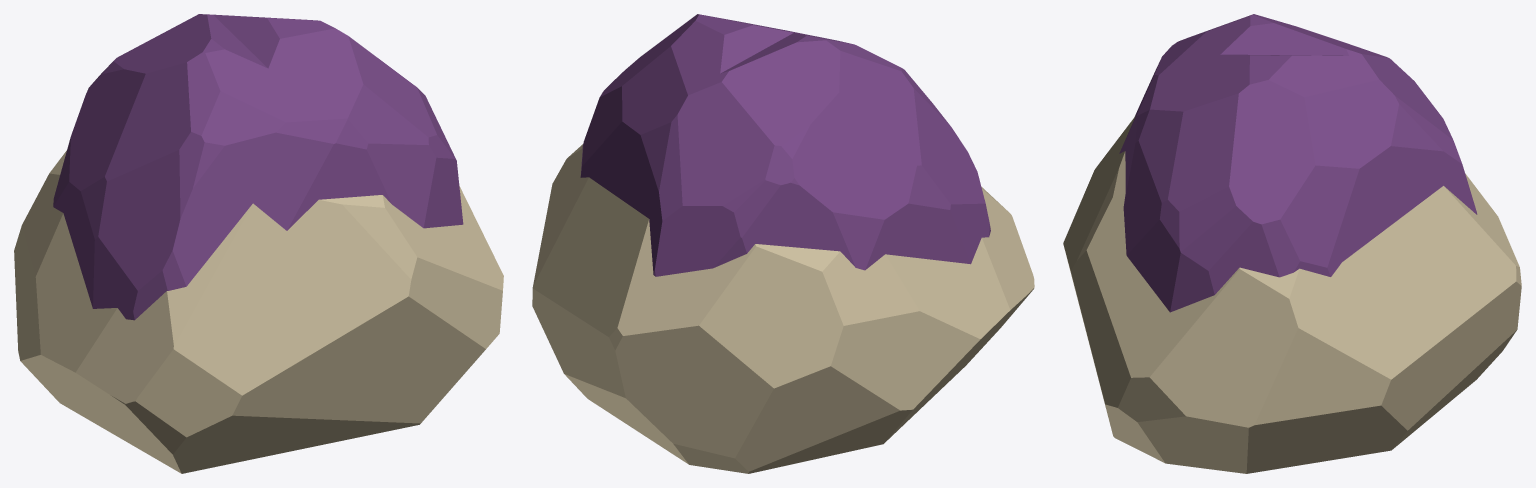
Rendered from small-reef-rock-99062d.glb.
The picture shows the model from 3 angles, left to right: view 1: azimuth 30°, elevation 25°; view 2: azimuth 150°, elevation 25°; view 3: azimuth 270°, elevation 25°; orthographic projection. The views are drawn at different scales.
Parts seen in each view (by area): view 1: reef-rock; view 2: reef-rock; view 3: reef-rock.
Part boxes in pixels (x1=…): reef-rock: x1=14, y1=14, x2=503, y2=473; reef-rock: x1=532, y1=14, x2=1034, y2=473; reef-rock: x1=1063, y1=14, x2=1521, y2=473.
Size of the model in its own units: 0.5 by 0.3905 by 0.4594.
